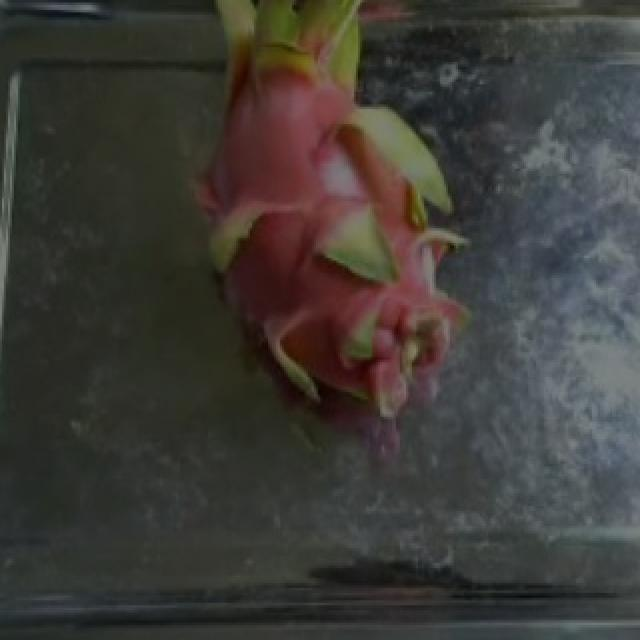fruit: (170, 5, 522, 439)
